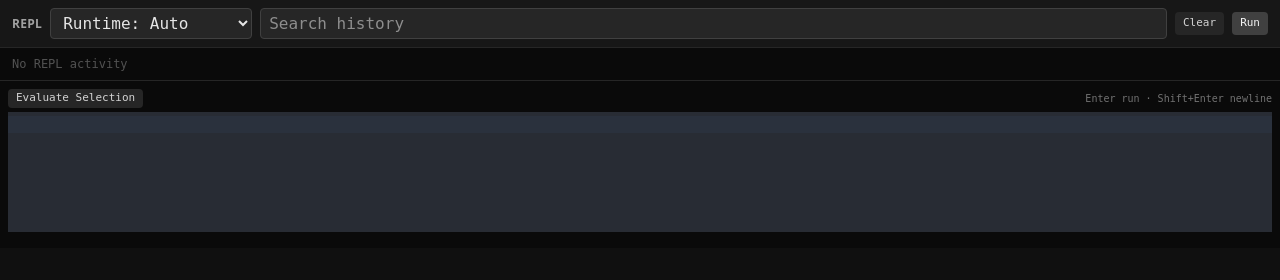
Test: ReplPanel › unregisters stale external commands when registrations change
The image size is (1280, 280).
Later steps or results of the test are not shown.
Step 1. Click the button "Evaluate Selection" → [76, 99], box [8,89,143,108]
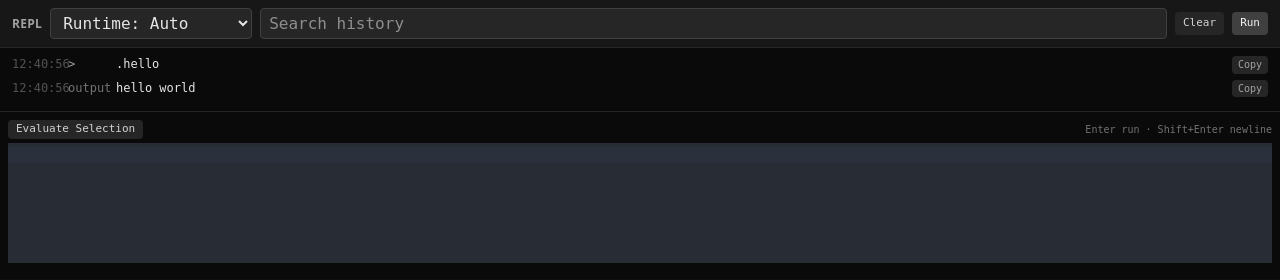
Expected: the text "hello world" is shown, [116,81,196,95]
